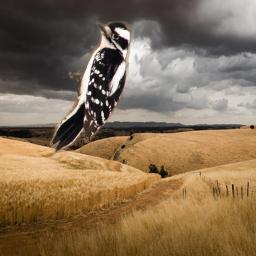Woodpecker: (50, 21, 131, 155)
